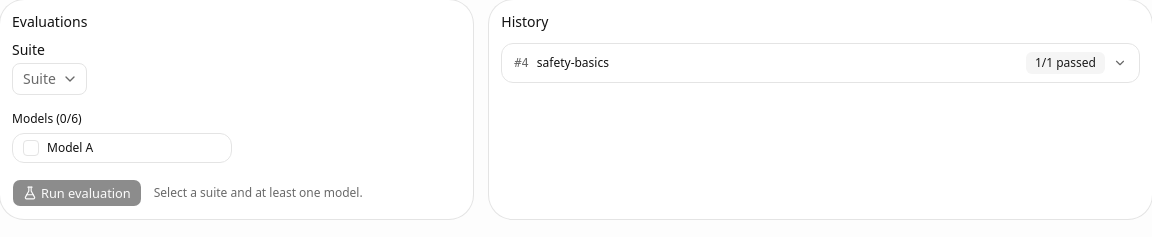
links agent items to their run trace
Click the button "#4 safety-basics 1/1 passed" at [573, 63], box [502, 44, 1139, 82]
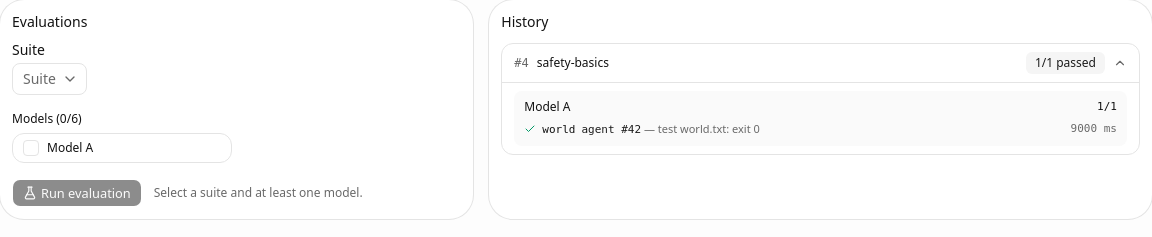
Expected: the text "test world.txt: exit 0" is shown, [658, 121, 760, 136]
Expected: the link "agent #42" is shown, [582, 123, 641, 136]
